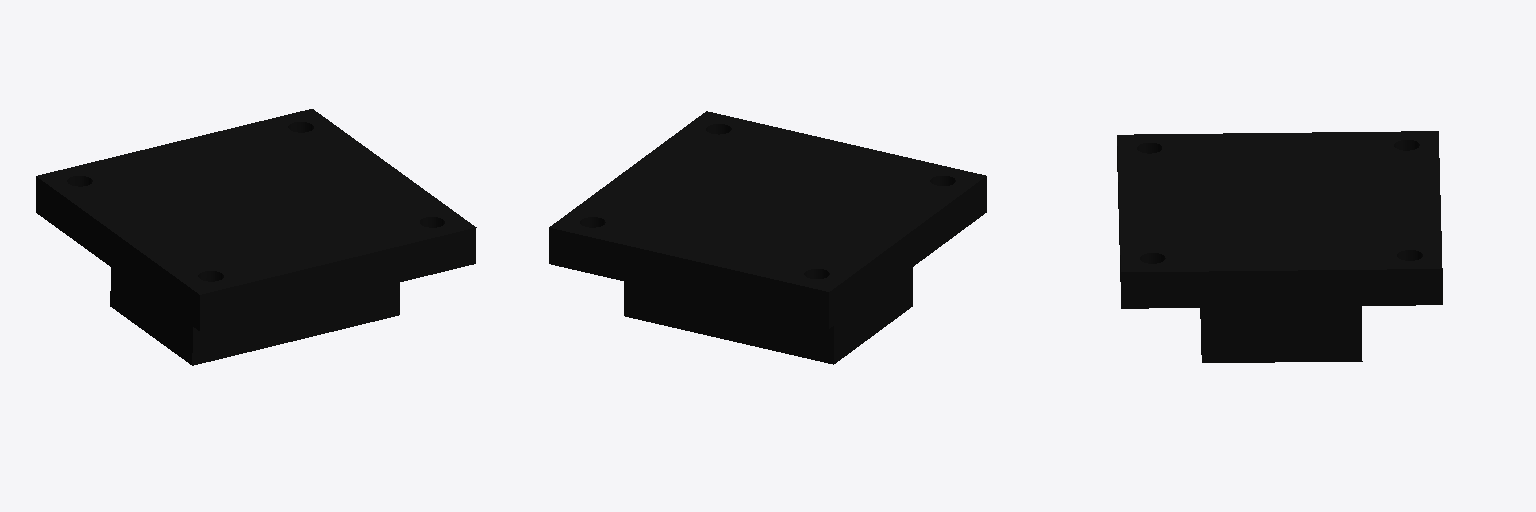
The model's file is move3.obj.
3 views of the same model, side by side, from view 1: azimuth 30°, elevation 25°; view 2: azimuth 150°, elevation 25°; view 3: azimuth 270°, elevation 25° (orthographic).
Visible parts, largest first — view 1: Assem1_-_Tool-2; view 2: Assem1_-_Tool-2; view 3: Assem1_-_Tool-2.
Part boxes in pixels (x1,y1,x2,y2): Assem1_-_Tool-2: (36,109,476,365); Assem1_-_Tool-2: (549,111,986,364); Assem1_-_Tool-2: (1117,131,1442,362).
Size of the model in its own units: 4.68 by 1.78 by 4.68.